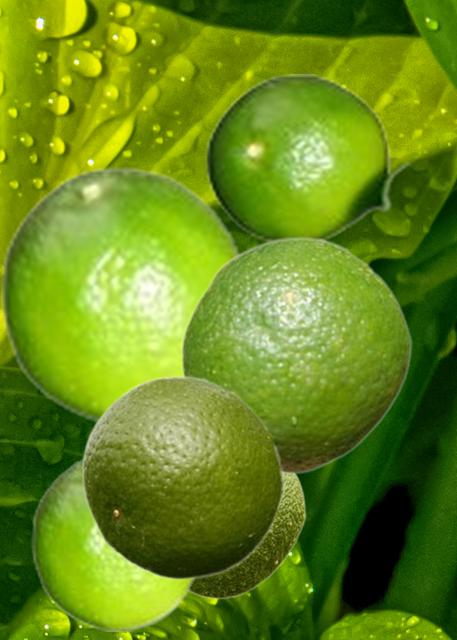calamansi: (0, 165, 245, 424), (180, 236, 411, 474), (81, 373, 284, 580), (204, 74, 412, 242), (31, 454, 199, 630), (189, 475, 305, 599)
